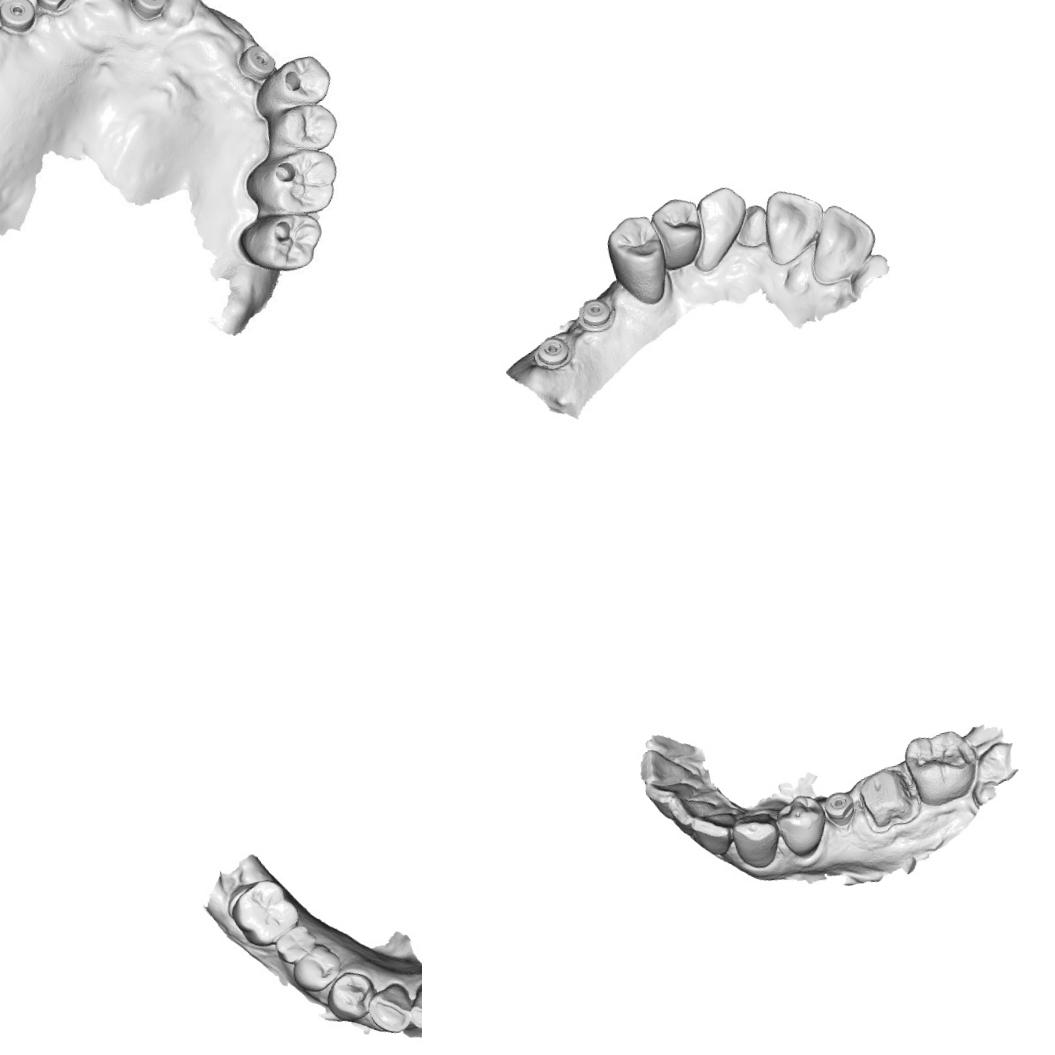canine: (680, 182, 758, 274), (726, 807, 784, 873), (363, 980, 416, 1038)
crown: (852, 762, 920, 836)
implant: (234, 36, 276, 84), (574, 294, 617, 333), (0, 0, 38, 40), (126, 0, 170, 22), (30, 0, 78, 18)
implant_minus: (529, 330, 574, 374), (820, 787, 858, 830)
incisor: (798, 196, 883, 288), (756, 181, 832, 270), (684, 805, 742, 860), (633, 740, 695, 788), (726, 196, 774, 254), (664, 788, 722, 831), (640, 774, 698, 812), (402, 979, 422, 1033)
molar: (899, 723, 984, 810), (238, 206, 328, 280), (249, 148, 340, 215), (224, 874, 303, 951), (270, 921, 320, 967)
premolar: (600, 208, 674, 311), (645, 191, 710, 275), (769, 788, 832, 863), (266, 100, 344, 155), (262, 52, 332, 112), (321, 966, 380, 1025), (286, 938, 346, 996)
